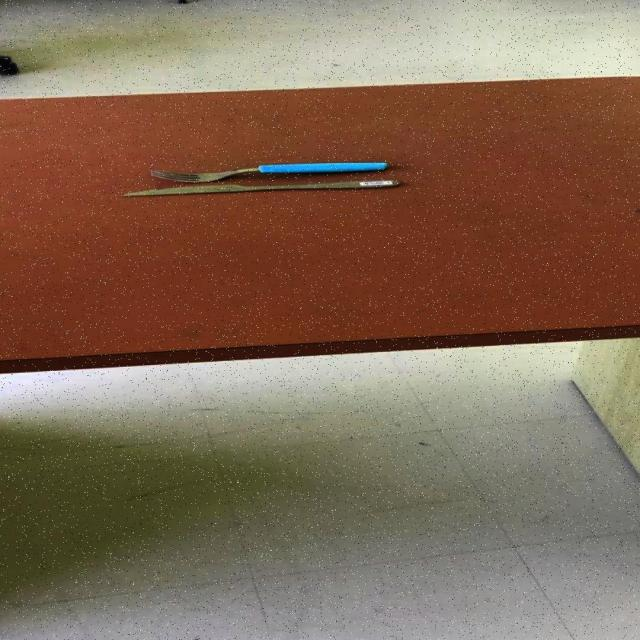Fork: (149, 161, 391, 182), (150, 161, 390, 182)
Knife: (121, 178, 402, 197)
